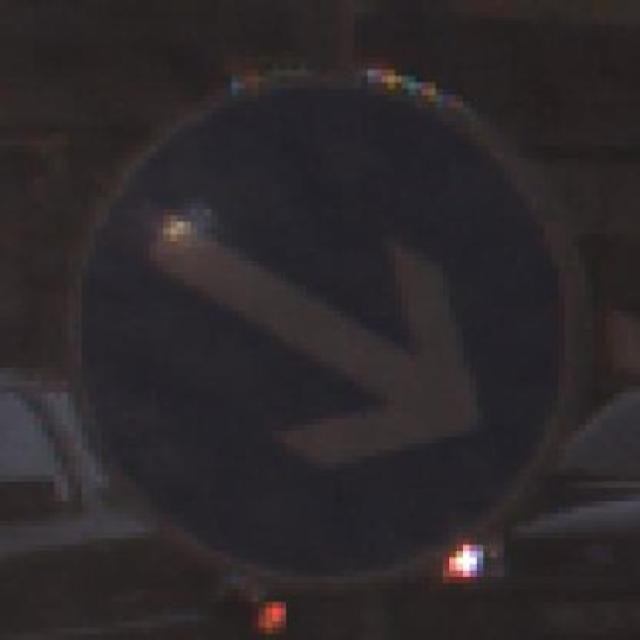Keep-Right: (28, 51, 606, 583)
